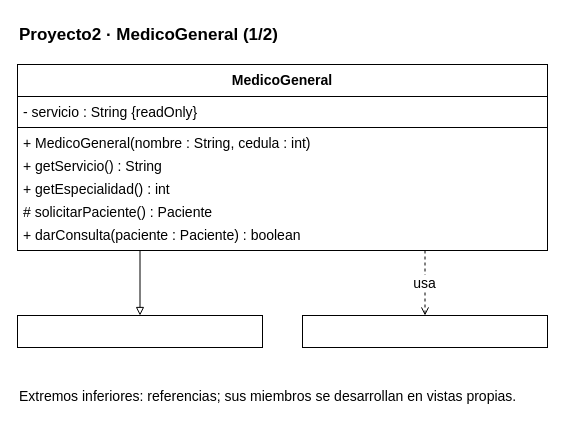
Image size: 565x432. Some labels were removed from this diagram. The shapes that lost their labels are listed below. From the top down, each one's centre as x and y in pixels, then its label:
At point (139, 331): "Medico".
At point (425, 331): "Paciente".
